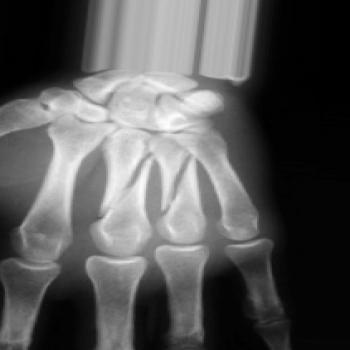Fracture: (95, 152, 156, 214), (159, 151, 198, 214)
